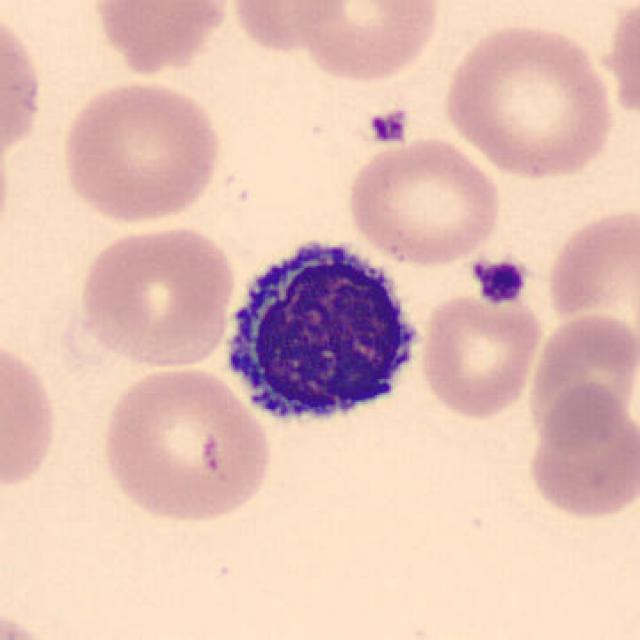Lymphocyte: (212, 226, 432, 439)
Platelets: (471, 256, 532, 306), (366, 106, 411, 148)
RBC: (438, 18, 620, 182), (96, 362, 276, 527), (57, 76, 226, 227), (73, 220, 238, 370), (343, 134, 505, 268), (416, 289, 546, 422), (523, 382, 638, 526), (523, 306, 638, 449), (286, 0, 444, 85), (540, 201, 638, 328), (87, 0, 235, 76), (0, 332, 64, 497), (0, 3, 48, 182), (226, 0, 352, 55), (599, 7, 640, 123), (0, 604, 67, 640)
